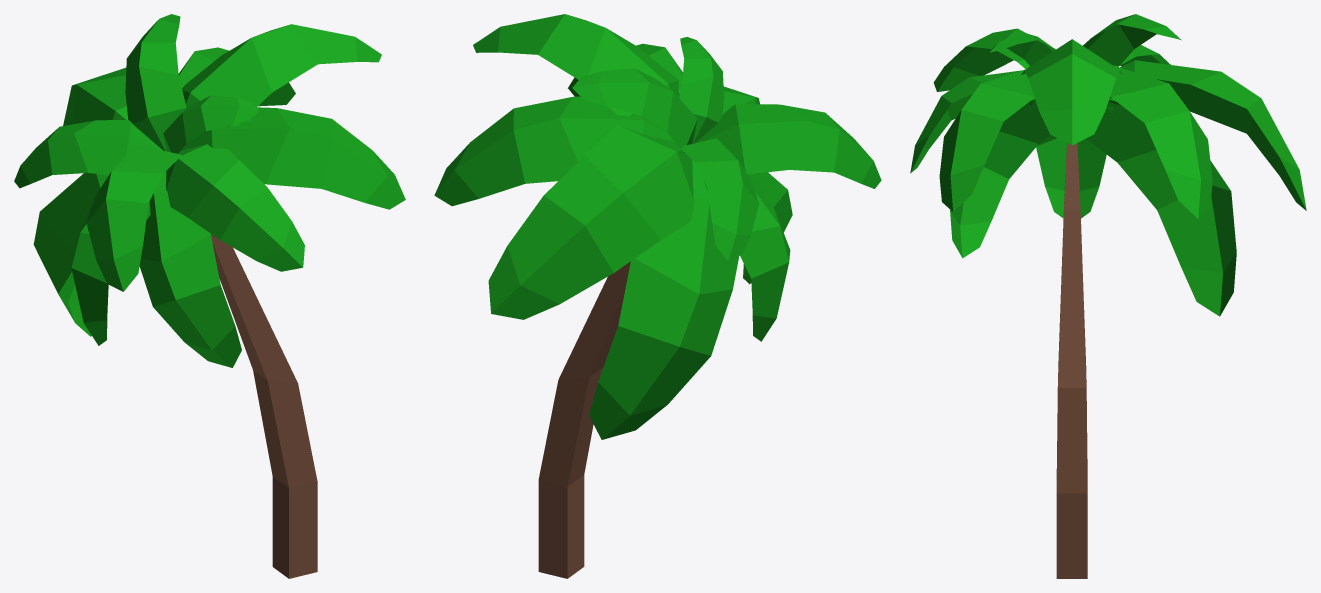
File: CoconutTree.fbx
3 renders of one model, left to right at view 1: azimuth 30°, elevation 25°; view 2: azimuth 150°, elevation 25°; view 3: azimuth 270°, elevation 25°, orthographic. The views are drawn at different scales.
Visible parts, largest first — view 1: CoconutTree; view 2: CoconutTree; view 3: CoconutTree.
Boxes of the visible parts, x1,y1,x2,y2 form: CoconutTree: [14, 14, 405, 578]; CoconutTree: [434, 14, 881, 578]; CoconutTree: [910, 14, 1306, 578].
Bounding box in the file's own units: 235 × 367 × 255.
